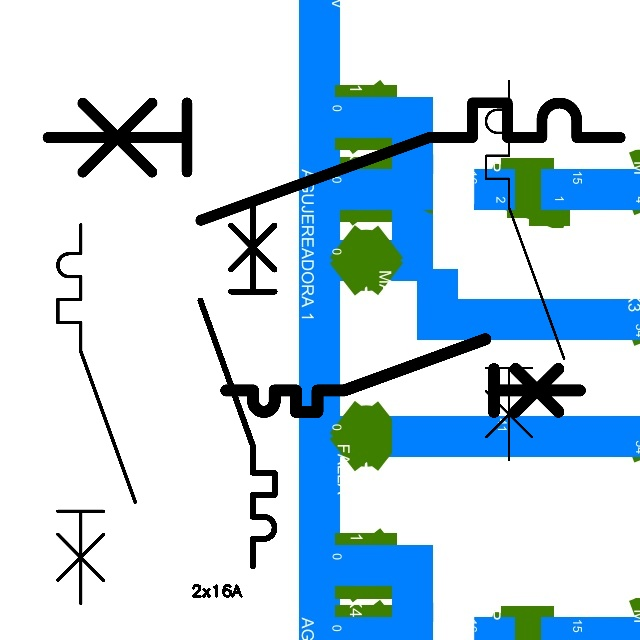interruptor_termomagnetico: (33, 88, 635, 235), (476, 71, 573, 470), (48, 215, 145, 613), (191, 194, 284, 576), (217, 330, 588, 421)
